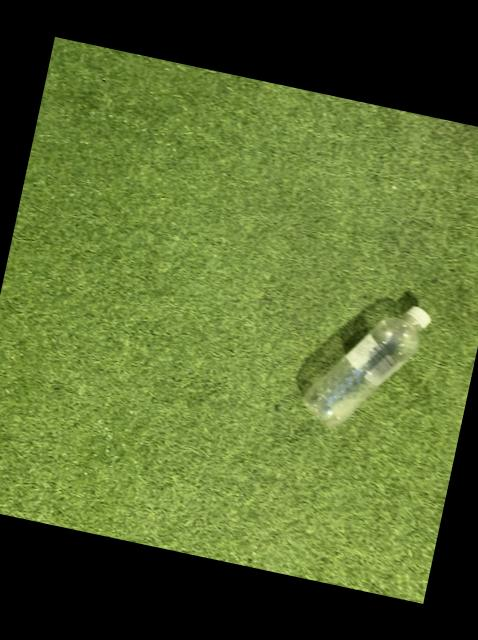plastic: (304, 307, 431, 428)
